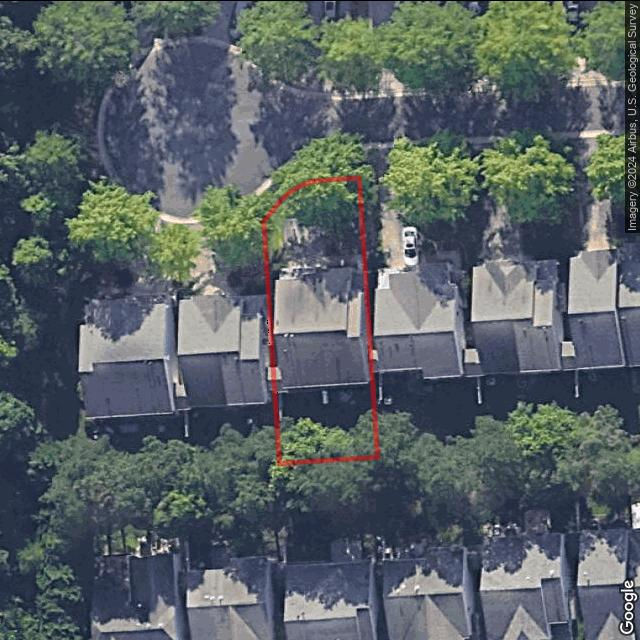Driveway: (283, 179, 321, 266)
Extra-Driveway: (279, 147, 316, 198)
Extra-Lawn: (316, 151, 360, 179), (263, 183, 283, 218)
House: (273, 264, 368, 387)
Lawn: (264, 178, 377, 462)
Other: (322, 389, 330, 404)
Sidewalk: (321, 253, 362, 295)
